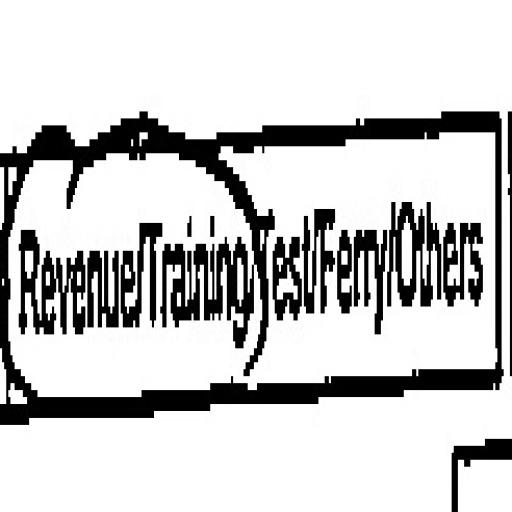check: (135, 90, 259, 450), (7, 100, 132, 448)
